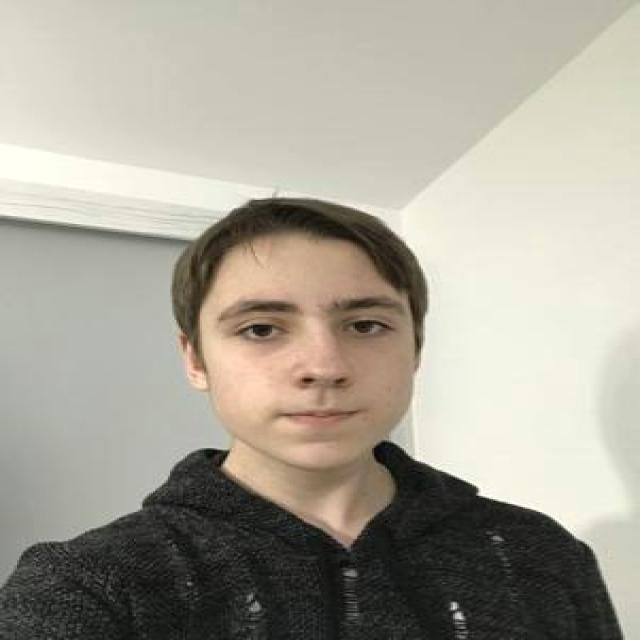face_nomask: (200, 282, 412, 470)
head_nohelmet: (183, 200, 417, 274)
person: (28, 174, 632, 640)
